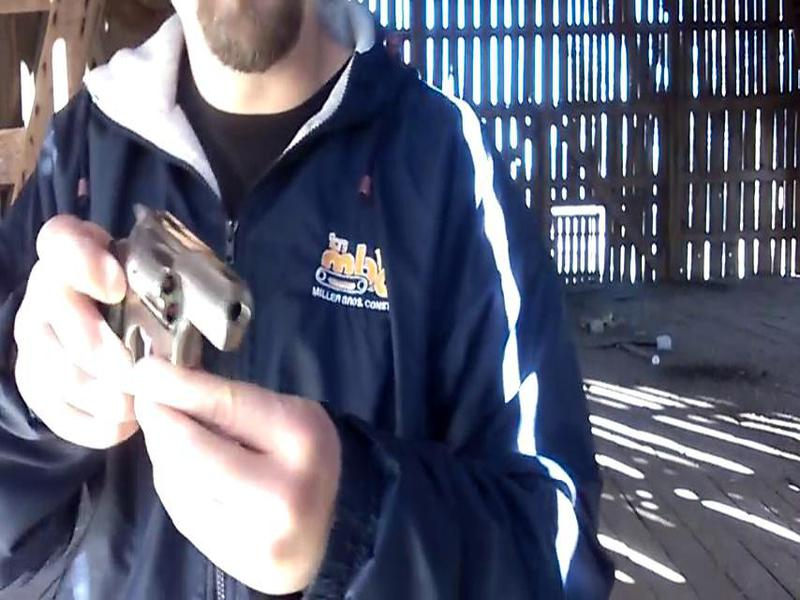Revolver: (86, 204, 266, 434)
